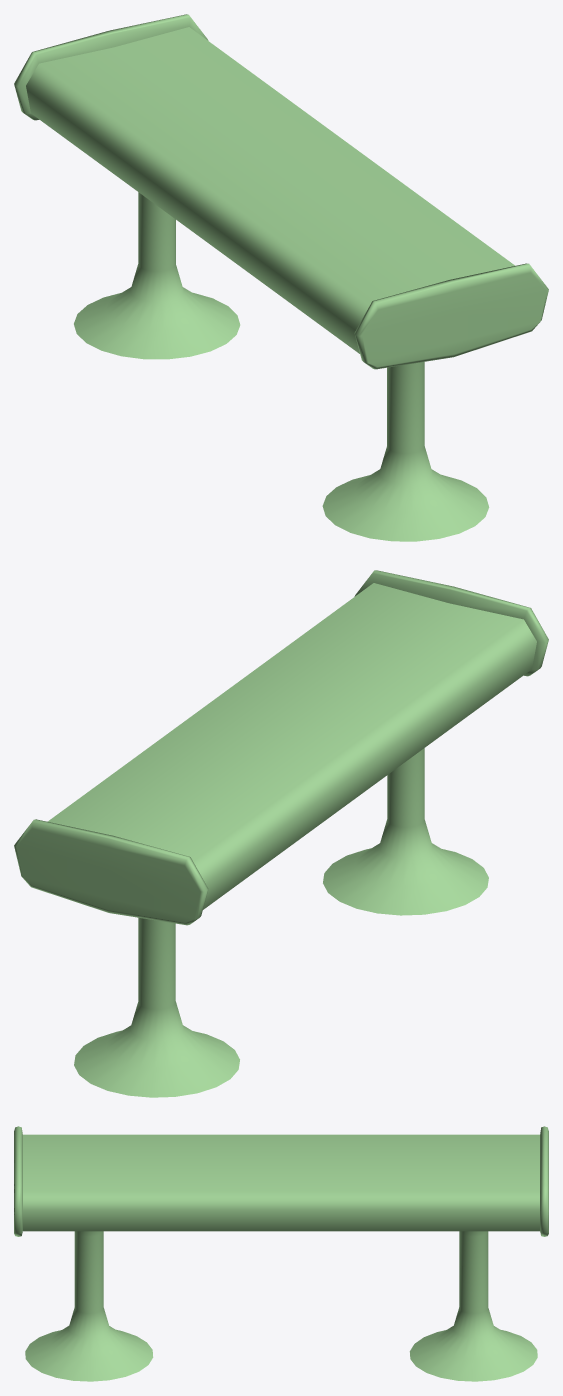
Rendered from PlatformSeat01.fbx.
3 views of the same model, one above another, from view 1: azimuth 30°, elevation 25°; view 2: azimuth 150°, elevation 25°; view 3: azimuth 270°, elevation 25° (orthographic). The views are drawn at different scales.
Parts seen in each view (by area): view 1: polySurface2, polySurface1, polySurface3; view 2: polySurface2, polySurface3, polySurface1; view 3: polySurface2, polySurface1, polySurface3.
Part boxes in pixels (left/top/right/bottom): polySurface2: left=14, top=14, right=548, bottom=369; polySurface1: left=322, top=362, right=489, bottom=541; polySurface3: left=74, top=192, right=240, bottom=359; polySurface2: left=14, top=570, right=548, bottom=925; polySurface3: left=74, top=917, right=239, bottom=1097; polySurface1: left=323, top=748, right=488, bottom=915; polySurface2: left=14, top=1126, right=548, bottom=1236; polySurface1: left=25, top=1231, right=153, bottom=1381; polySurface3: left=409, top=1231, right=537, bottom=1381.
Size of the model in its own units: 57.77 by 74.31 by 180.
